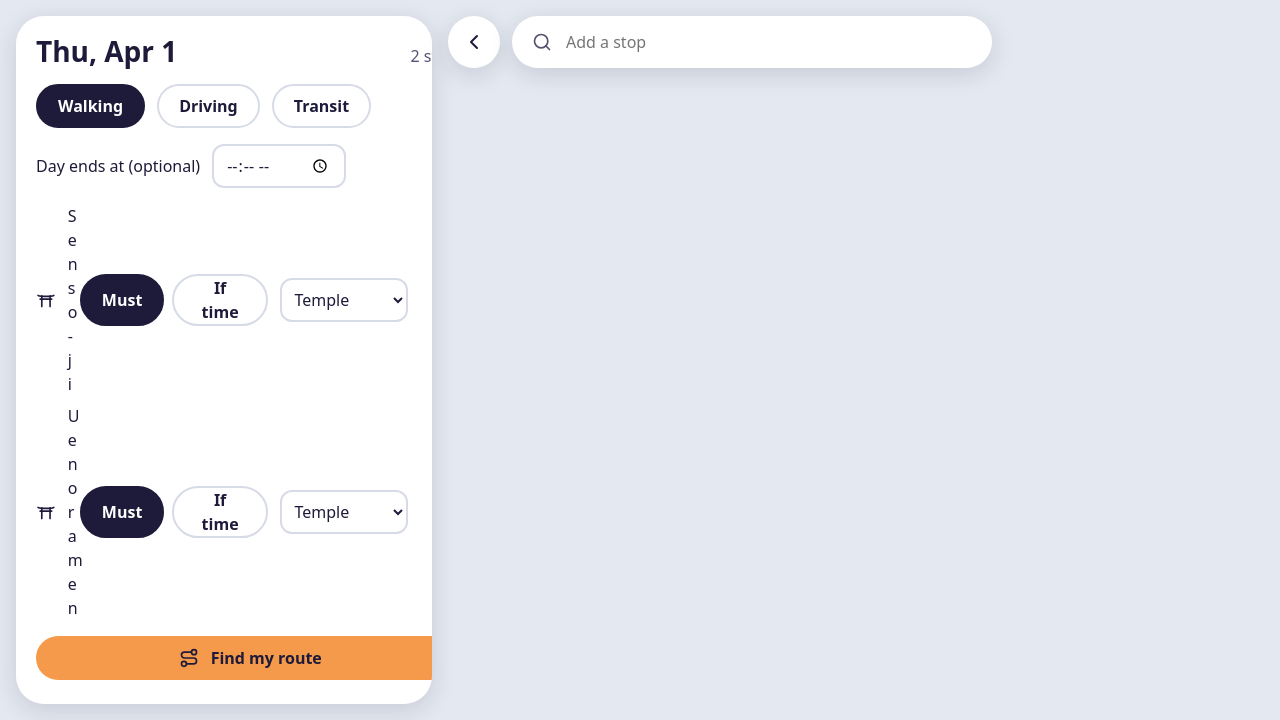
Scenario: the day end time › says so when the server refuses it (before the day starts)
This screenshot has width=1280, height=720.
Type "07:00" into the time field labelled "Day ends at (optional)". click: [279, 166]
box: [212,144,346,188]
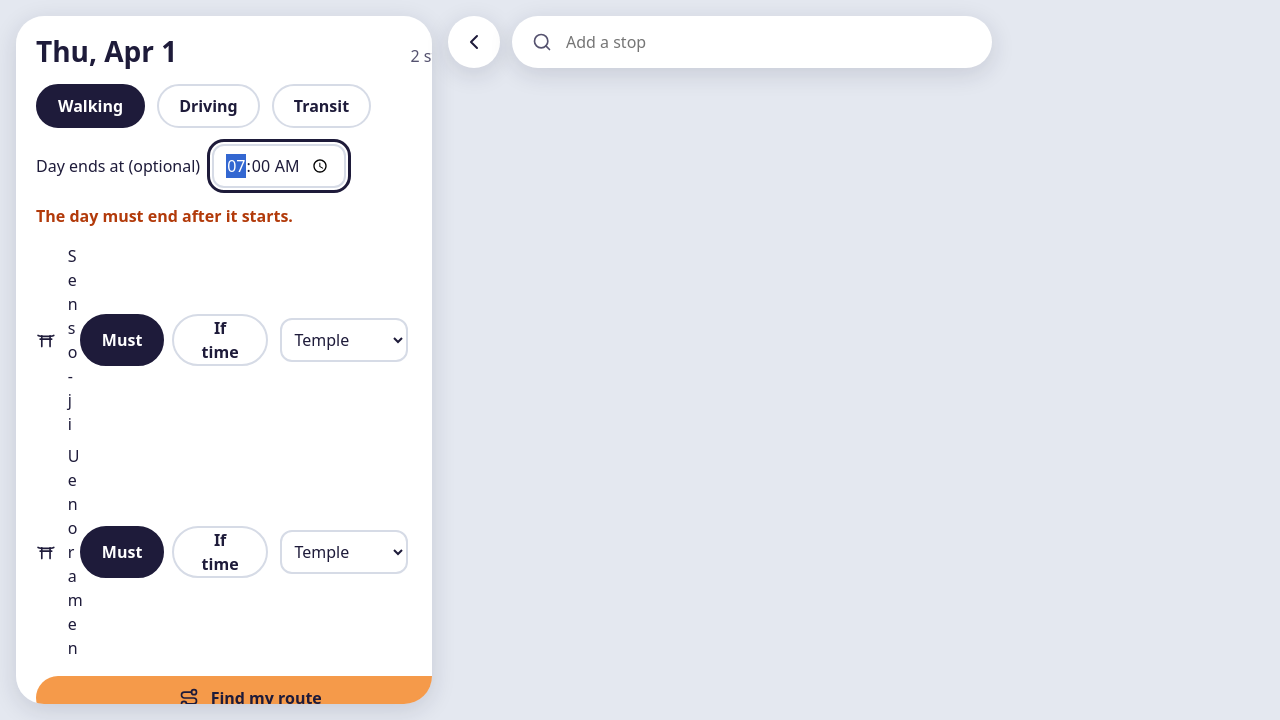
Expected: the message shows "must end after it starts", [36,205,293,227]
